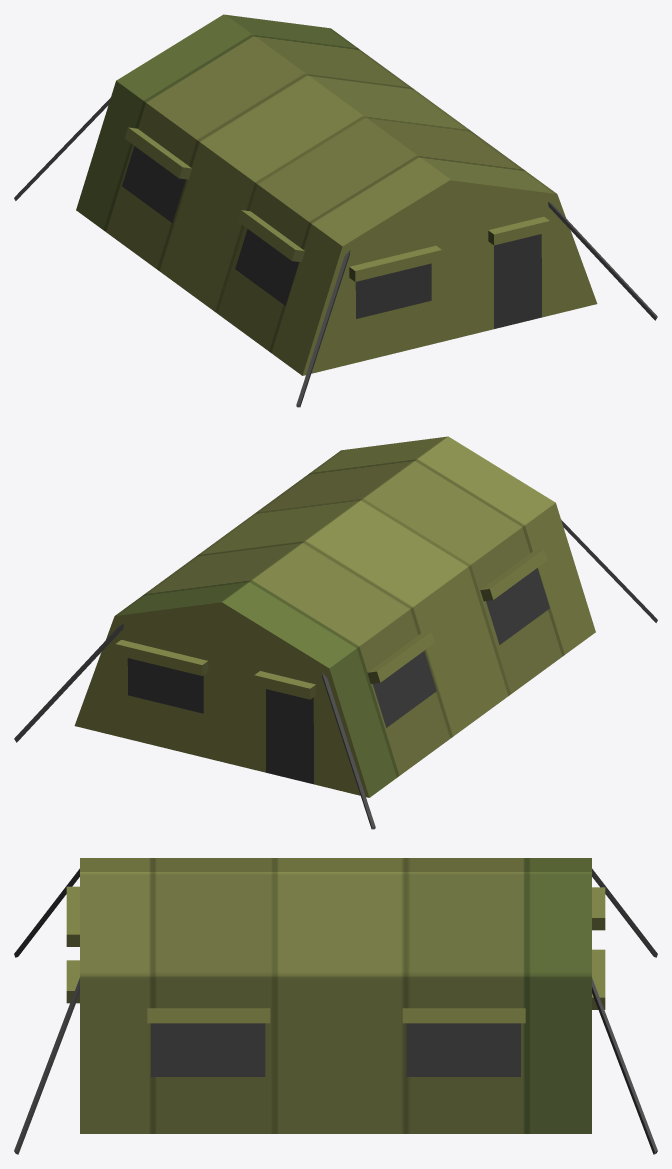
Rendered from SM_Bld_Tent_01.fbx.
3 renders of one model, top to bottom at view 1: azimuth 30°, elevation 25°; view 2: azimuth 150°, elevation 25°; view 3: azimuth 270°, elevation 25°, orthographic. The views are drawn at different scales.
Visible parts, largest first — view 1: SM_Bld_Tent_01; view 2: SM_Bld_Tent_01; view 3: SM_Bld_Tent_01.
Part boxes in pixels (<box>): SM_Bld_Tent_01: <box>14,14,657,407</box>; SM_Bld_Tent_01: <box>14,436,657,829</box>; SM_Bld_Tent_01: <box>14,858,657,1154</box>.
Bounding box in the file's own units: 12.51 × 5.39 × 17.08.
